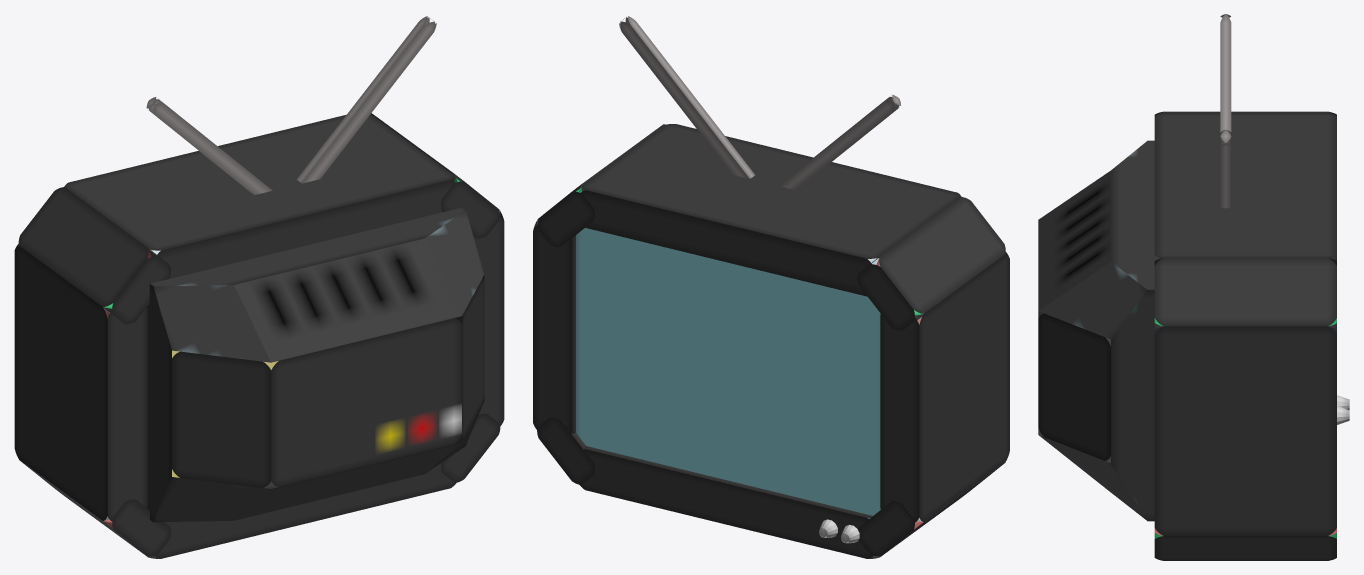
3 renders of one model, left to right at view 1: azimuth 30°, elevation 25°; view 2: azimuth 150°, elevation 25°; view 3: azimuth 270°, elevation 25°, orthographic. The views are drawn at different scales.
Visible parts, largest first — view 1: corner, cuboid, cube; view 2: corner, tvBase, cube, cylinder; view 3: corner, cuboid, cube.
Boxes of the visible parts, <box> form: corner: <box>14,113,504,558</box>; cuboid: <box>147,207,484,522</box>; cube: <box>146,16,436,194</box>; corner: <box>533,124,1009,558</box>; tvBase: <box>576,228,921,518</box>; cube: <box>619,16,900,190</box>; cylinder: <box>819,519,859,543</box>; corner: <box>1154,111,1336,560</box>; cuboid: <box>1038,140,1160,521</box>; cube: <box>1220,14,1231,208</box>.
Bounding box in the file's own units: 0.7707 × 0.821 × 0.5344.
Materials: 1 (1 with a texture image).
